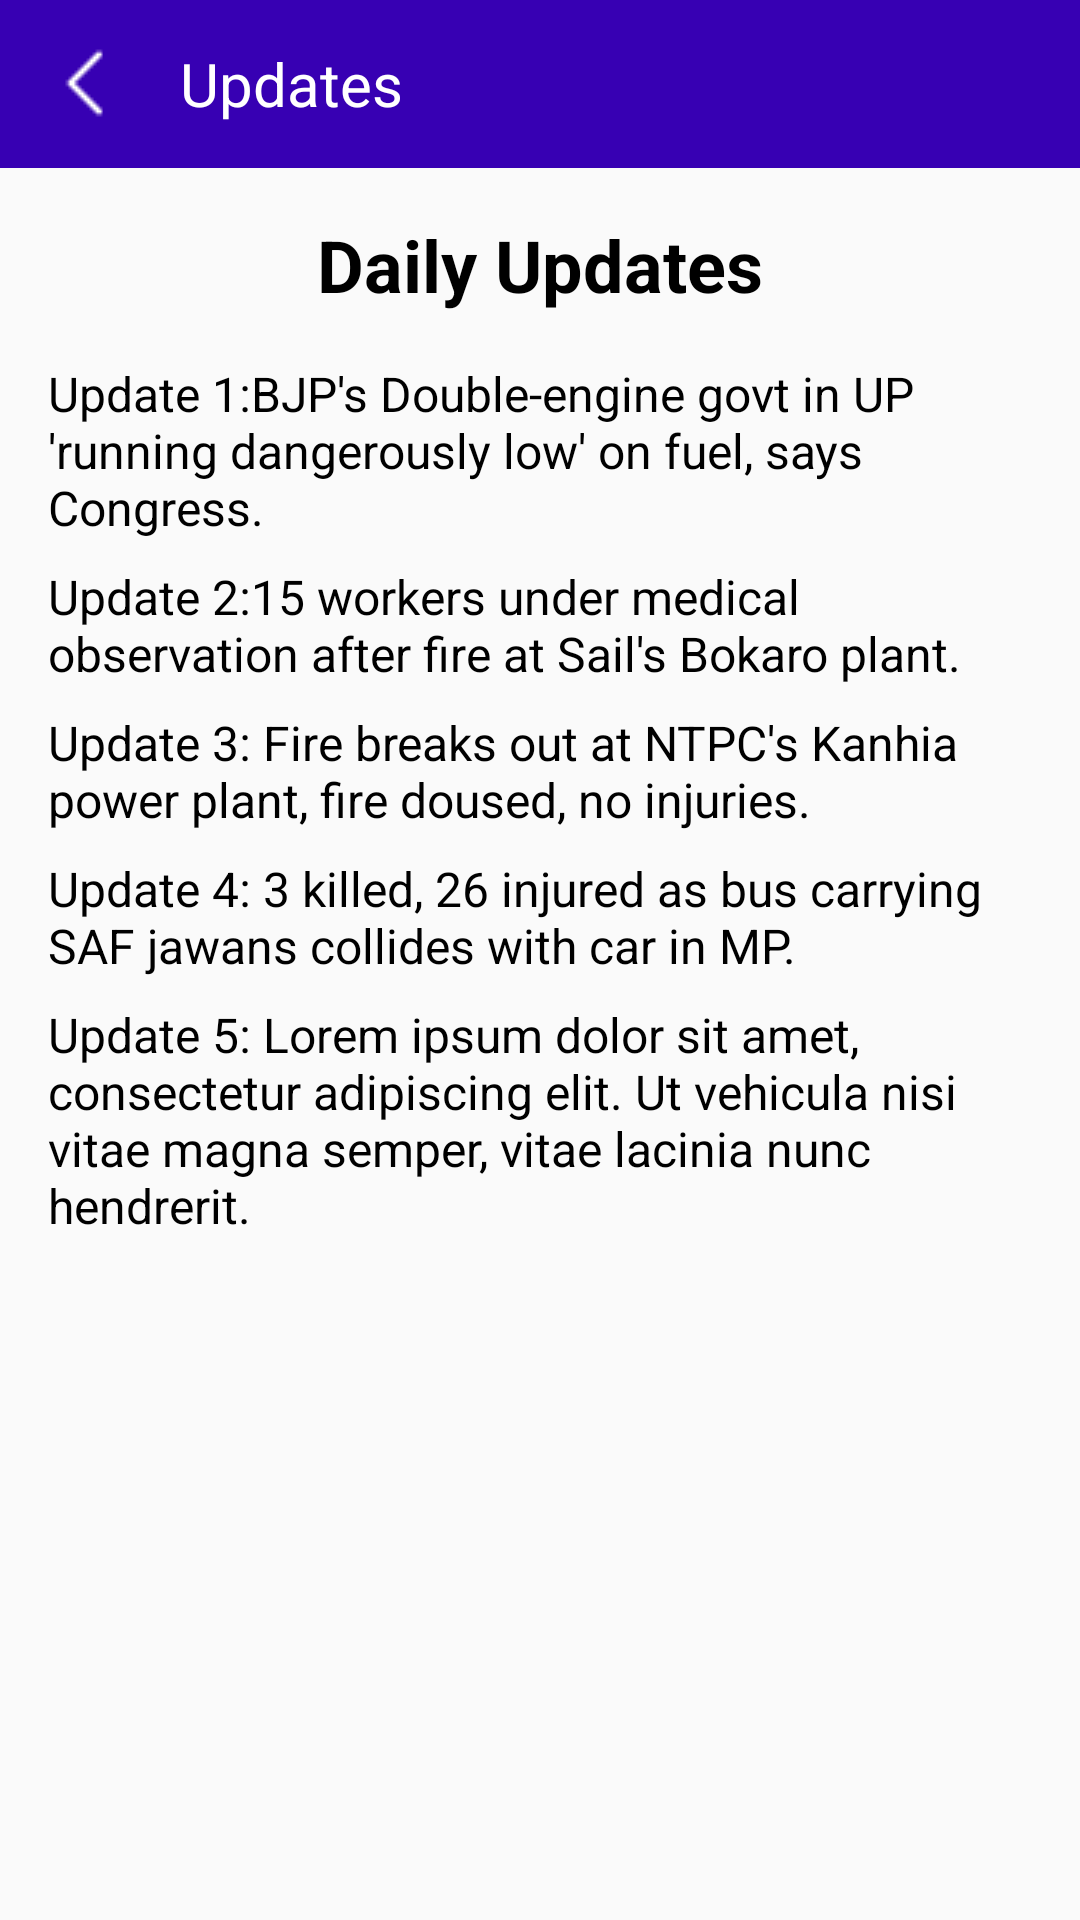

Icon bounding boxes for this 1080 × 1920 phone screenshot, format region(x1, y1, x2, y2):
left arrow: region(65, 50, 103, 117)
